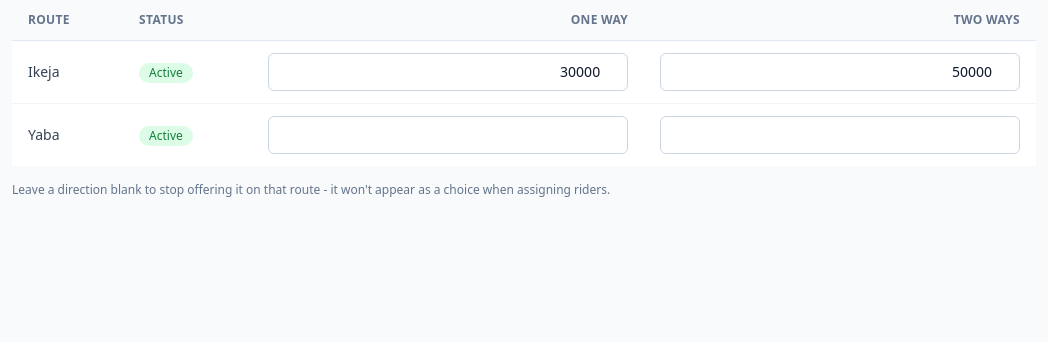
it: TransportFareTable › a rejected save surfaces the error inline
Type "25000" into the number field named "Yaba one-way fare". click: (448, 135)
box: [268, 116, 628, 154]
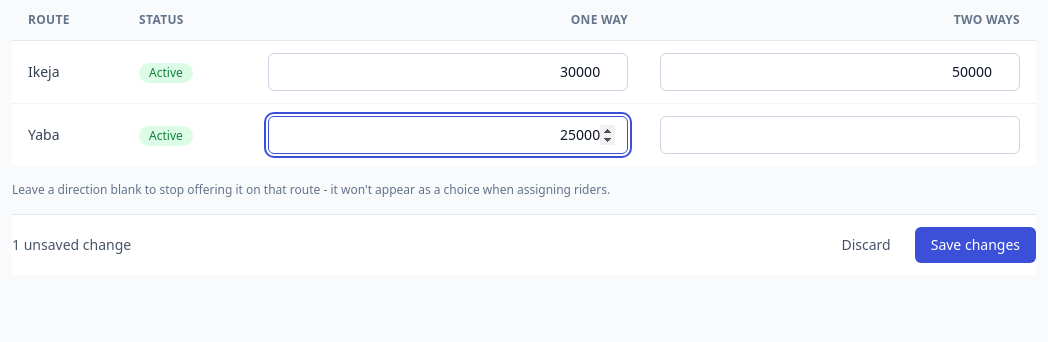
Click the button "Save changes". click: (975, 245)
box: [915, 227, 1036, 263]
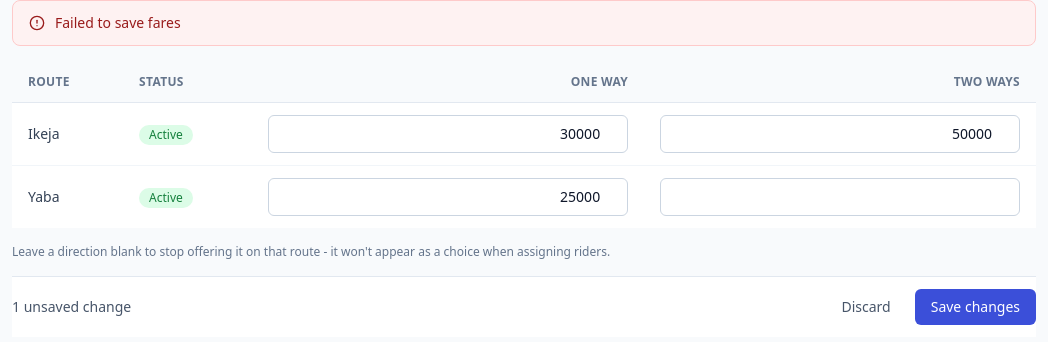
Now the text "Failed to save fares" is shown, box [55, 13, 181, 33]
